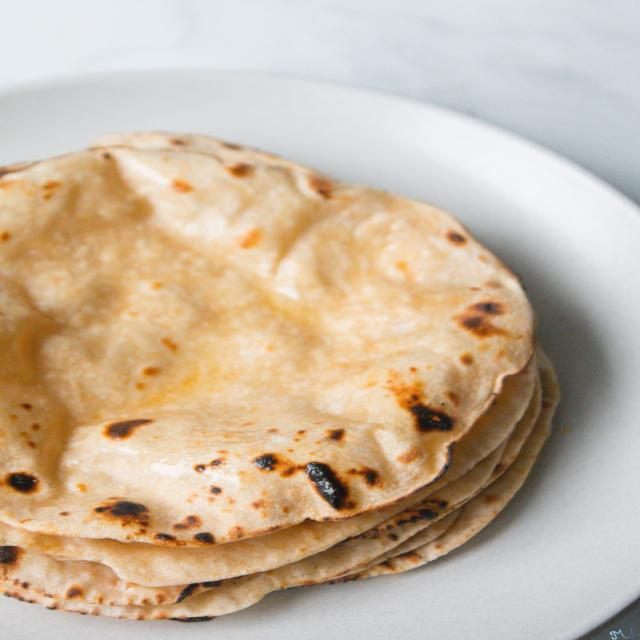chapati: (0, 132, 572, 640)
